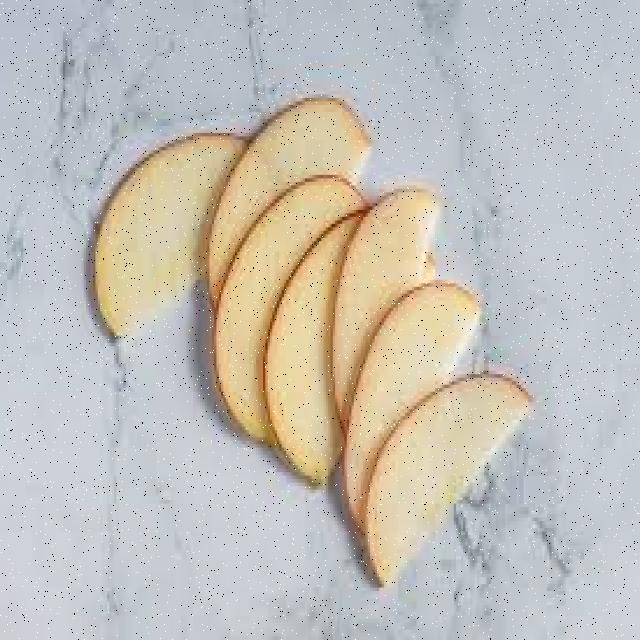Apple: (258, 200, 406, 497), (208, 175, 368, 441), (204, 94, 375, 329), (339, 277, 484, 547), (362, 366, 530, 584), (90, 134, 258, 339), (335, 186, 446, 435)
